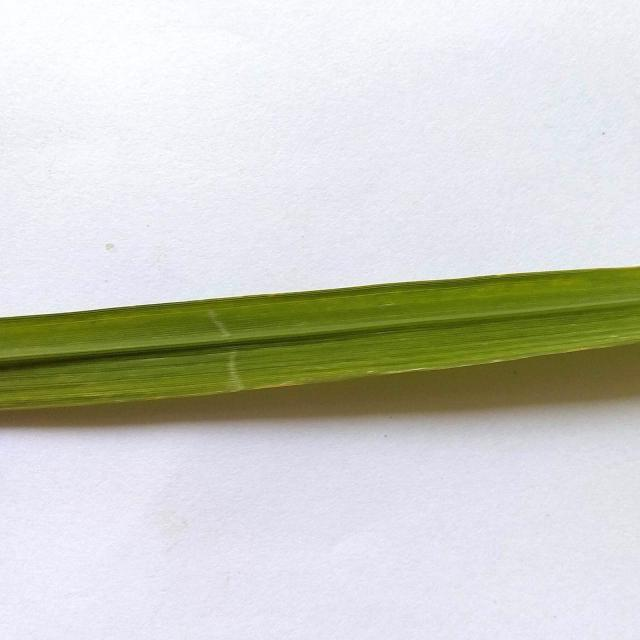healthy: (0, 245, 640, 447)
